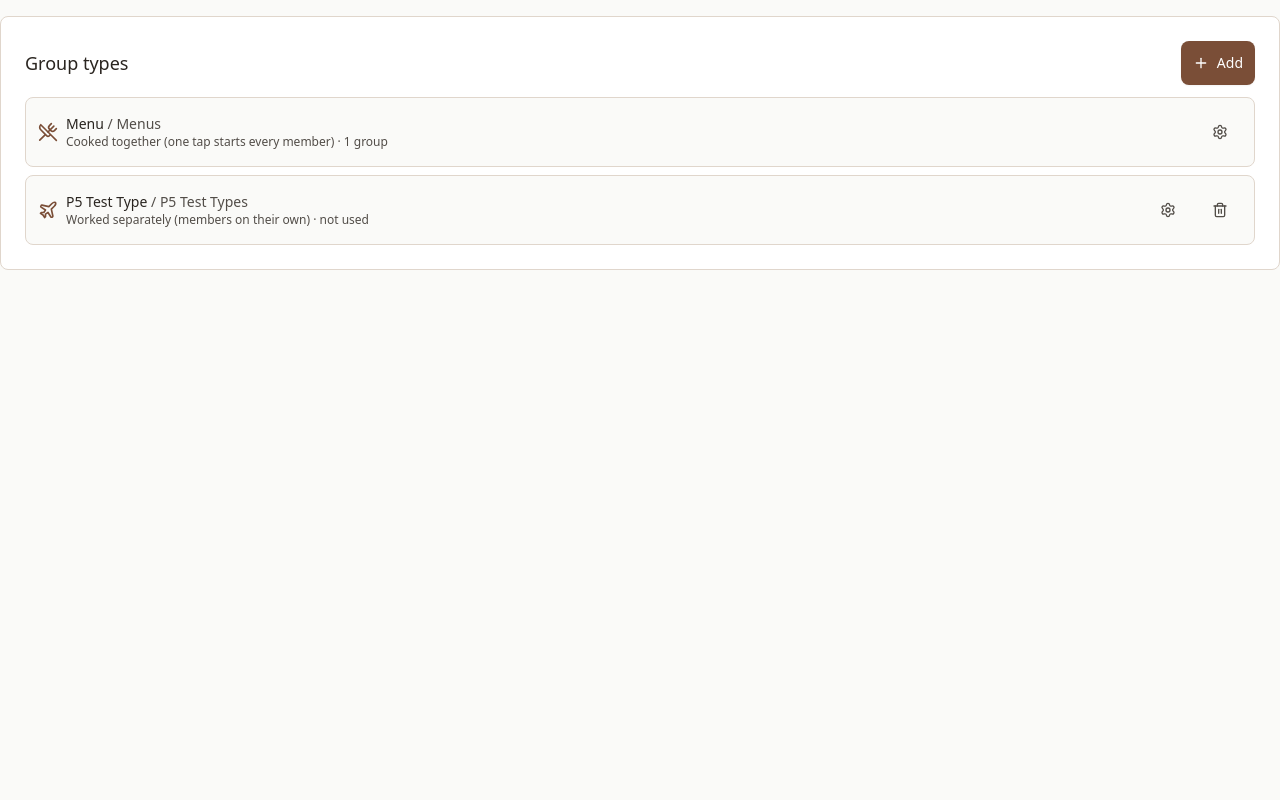
it: Edit refuses a clashing name and keeps the form
This screenshot has width=1280, height=800.
Click the button named "Edit P5 Test Type" at point(1168, 210), box [1146,188,1190,232]
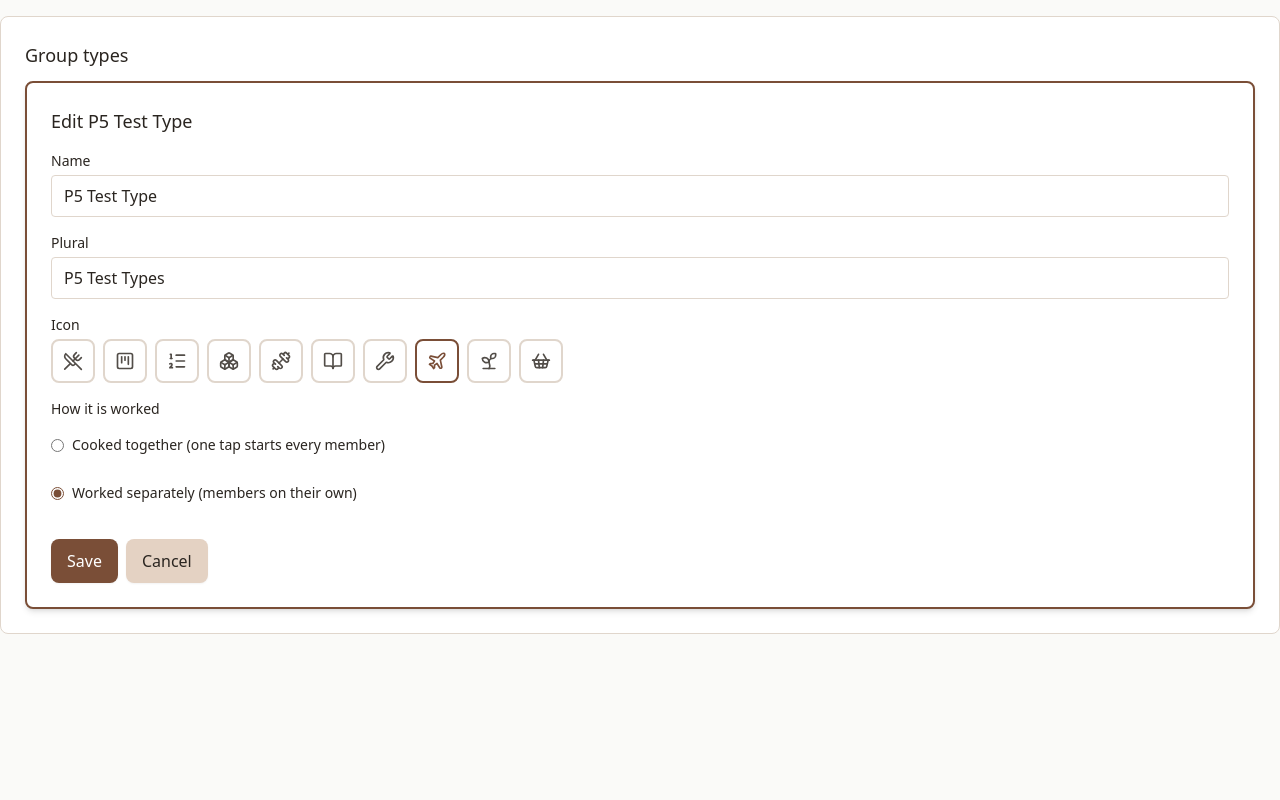
Replace the text in the field labelled "Name" with "Menu" at point(640, 196), box [51,175,1229,217]
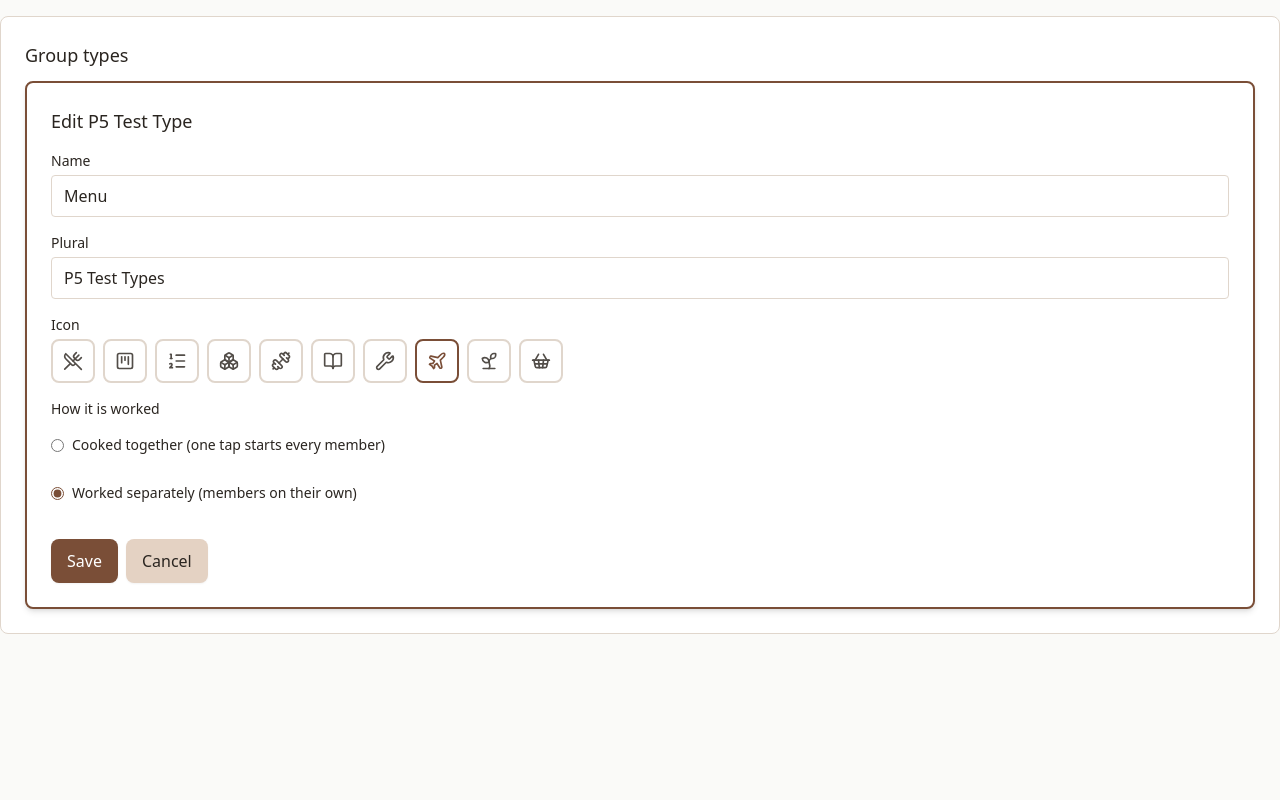
Click the button "Save" at point(84, 561), box [51,539,118,583]
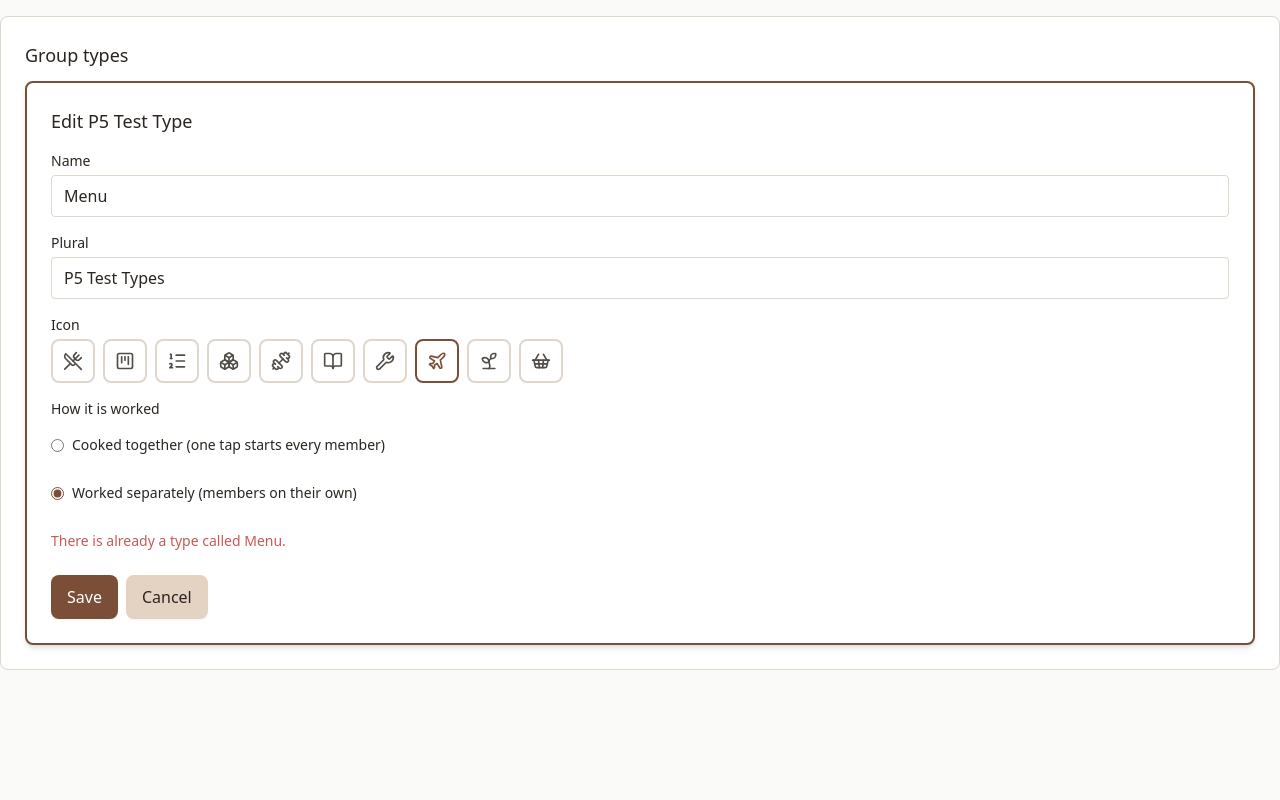
expect the text "There is already a type called Menu." is shown: met, box [51,531,286,550]
